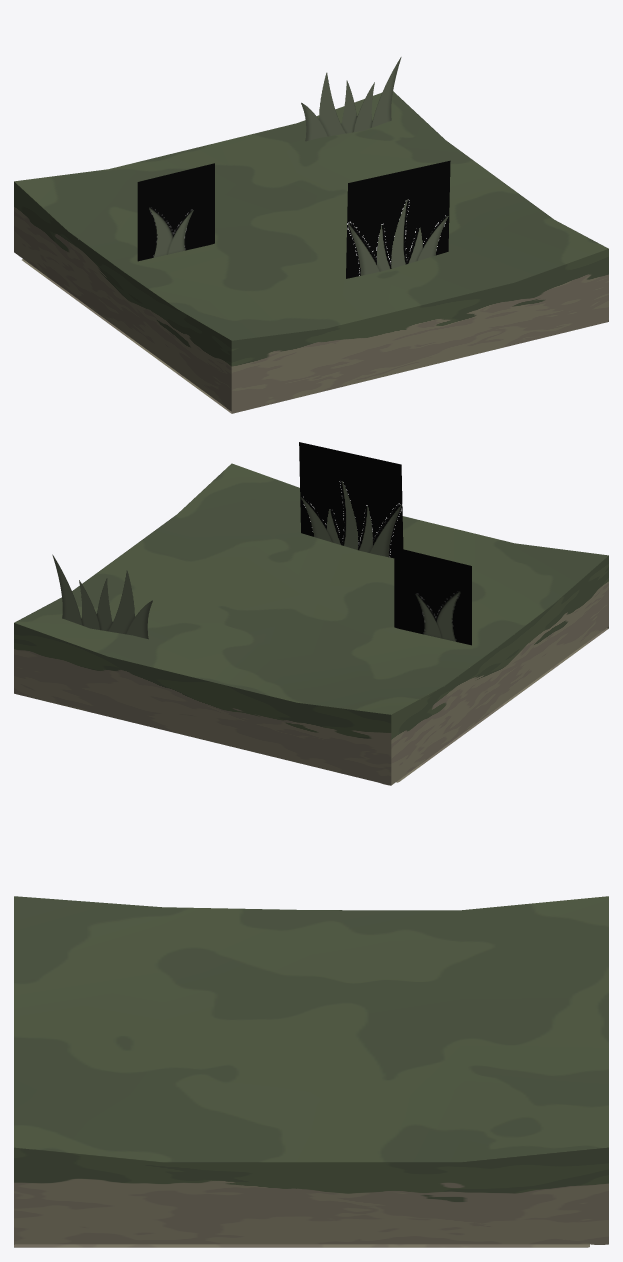
Rendered from GrassTile2.fbx.
The picture shows the model from 3 angles, top to bottom: view 1: azimuth 30°, elevation 25°; view 2: azimuth 150°, elevation 25°; view 3: azimuth 270°, elevation 25°; orthographic projection. The views are drawn at different scales.
Parts seen in each view (by area): view 1: GrassTile2, Grass1.002, Grass1.003, Grass1.004; view 2: GrassTile2, Grass1.002, Grass1.003, Grass1.004; view 3: GrassTile2.
Part boxes in pixels (x1=…): GrassTile2: x1=14, y1=91, x2=608, y2=413; Grass1.002: x1=346, y1=160, x2=450, y2=278; Grass1.003: x1=137, y1=163, x2=214, y2=261; Grass1.004: x1=301, y1=57, x2=401, y2=141; GrassTile2: x1=14, y1=463, x2=608, y2=785; Grass1.002: x1=299, y1=442, x2=403, y2=558; Grass1.003: x1=394, y1=547, x2=471, y2=645; Grass1.004: x1=52, y1=554, x2=152, y2=639; GrassTile2: x1=14, y1=896, x2=608, y2=1247.
Size of the model in its own units: 200 by 85.61 by 200.
4 materials, 4 textured.
